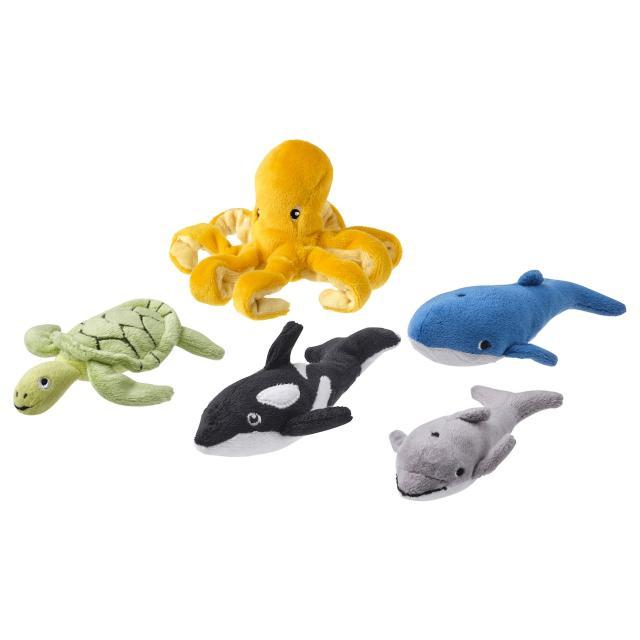hard-toy: (171, 141, 402, 321), (196, 322, 401, 457), (14, 300, 225, 415), (409, 271, 627, 367), (390, 387, 564, 502)
